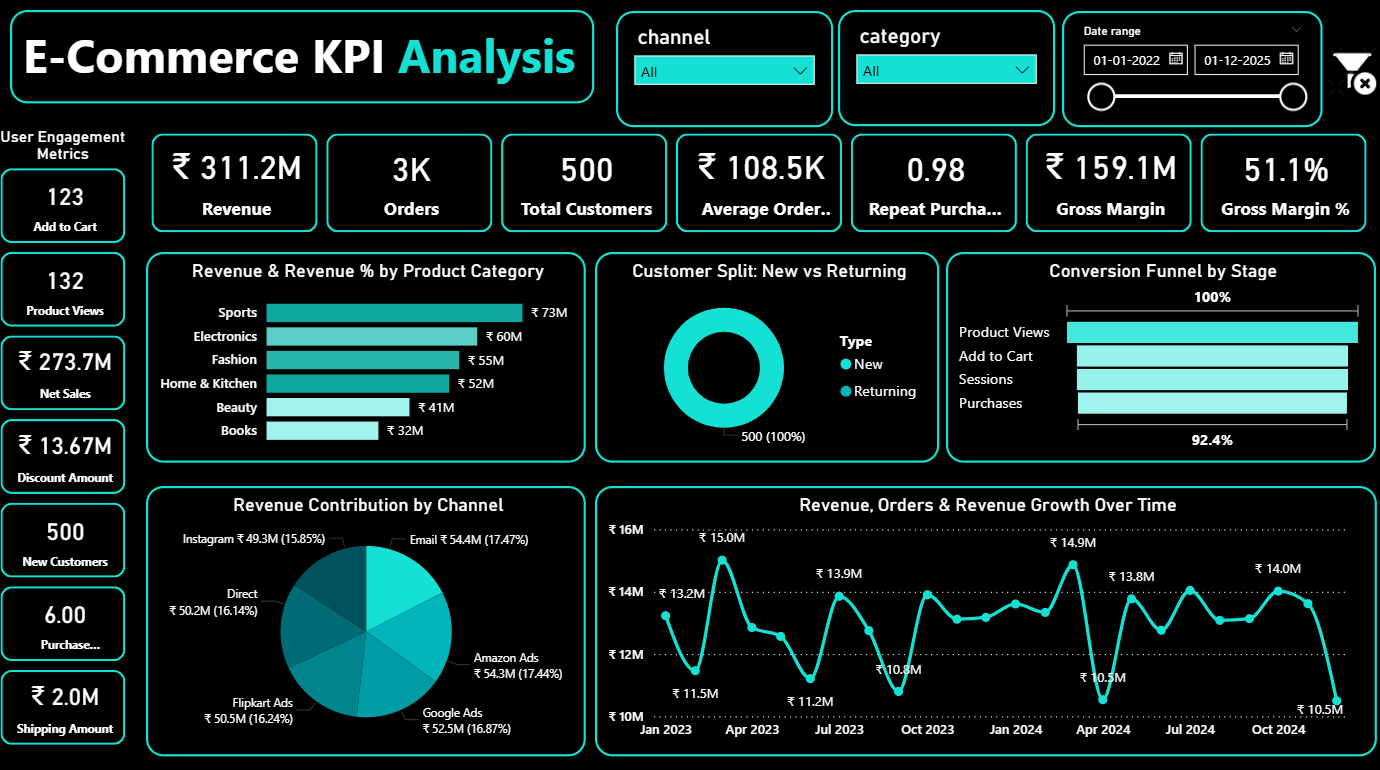

The dashboard page shown, as its layout file describes it:
{"tool":"powerbi","page":{"name":"Page 1","canvas":[1280,720],"ordinal":0},"visuals":[{"type":"slicer","fields":{"Values":["dim_date.Month Start"]},"box":[982.5,16,240.3,107.3],"z":0},{"type":"cardVisual","fields":{"Data":["Measure (2).Revenue","Measure (2).Orders","Measure (2).Total Customers","Measure (2).Average Order Value","Measure (2).Repeat Purchase Rate","Measure (2).Gross Margin","Measure (2).Gross Margin %"]},"box":[138.7,123.1,1133.4,101.6],"z":1000},{"type":"lineChart","title":"\tRevenue, Orders & Revenue Growth Over Time","fields":{"Category":["dim_date.Month Start"],"Y":["Measure (2).Revenue"]},"box":[552.4,453.1,720,249.2],"z":2000},{"type":"donutChart","title":"Customer Split: New vs Returning","fields":{"Category":["Customer Type.Type"],"Y":["Customer Type.Customers by Type"]},"box":[552.4,237.6,317.4,194.2],"z":3000},{"type":"funnel","title":"Conversion Funnel by Stage","fields":{"Y":["Funnel Stages.Funnel Count"],"Category":["Funnel Stages.Stage"]},"box":[876.1,237.6,396.4,194.2],"z":4000},{"type":"clusteredBarChart","title":"Revenue & Revenue % by Product Category","fields":{"Category":["kpi products_india.category"],"Y":["Measure (2).Revenue"]},"box":[139.2,237.6,405.2,194.2],"z":5000},{"type":"textbox","box":[13.7,14.7,538.4,86],"z":6000},{"type":"pieChart","title":"Revenue Contribution by Channel","fields":{"Category":["kpi orders_india.channel"],"Y":["Measure (2).Revenue"]},"box":[138.7,453.4,405.5,249.2],"z":7000},{"type":"cardVisual","title":"User Engagement Metrics","fields":{"Data":["Measure (2).Add to Cart","Measure (2).Product Views","Measure (2).Net Sales","Measure (2).Discount Amount","Measure (2).New Customers","Measure (2).Purchase Frequency","Measure (2).Shipping Amount"]},"box":[0,123.1,125.1,579.4],"z":8000},{"type":"slicer","fields":{"Values":["kpi orders_india.channel"]},"box":[571.9,16,199.5,107.3],"z":9000},{"type":"slicer","fields":{"Values":["kpi products_india.category"]},"box":[775.9,15.1,199.5,107.3],"z":10000},{"type":"image","box":[1222.8,27.5,54.1,85.1],"z":11000}]}

Visuals, with their boxes in screenshot pixels (x1, y1, x2, y2), scaled from the page's 1280x720 canvas onto the 1380x770 screenshot:
slicer - dim_date.Month Start: region(1059, 17, 1318, 132)
cardVisual - Measure (2).Revenue x Measure (2).Orders: region(150, 132, 1371, 240)
"	Revenue, Orders & Revenue Growth Over Time" lineChart: region(596, 485, 1372, 751)
"Customer Split: New vs Returning" donutChart: region(596, 254, 938, 462)
"Conversion Funnel by Stage" funnel: region(945, 254, 1372, 462)
"Revenue & Revenue % by Product Category" clusteredBarChart: region(150, 254, 587, 462)
textbox: region(15, 16, 595, 108)
"Revenue Contribution by Channel" pieChart: region(150, 485, 587, 751)
"User Engagement Metrics" cardVisual: region(0, 132, 135, 751)
slicer - kpi orders_india.channel: region(617, 17, 832, 132)
slicer - kpi products_india.category: region(837, 16, 1052, 131)
image: region(1318, 29, 1377, 120)
